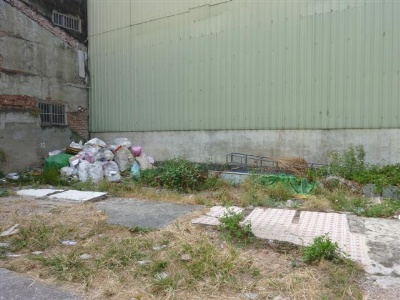plastic_bag: (253, 173, 315, 197), (41, 151, 74, 184), (112, 145, 137, 172), (87, 160, 105, 184), (103, 160, 122, 182)
